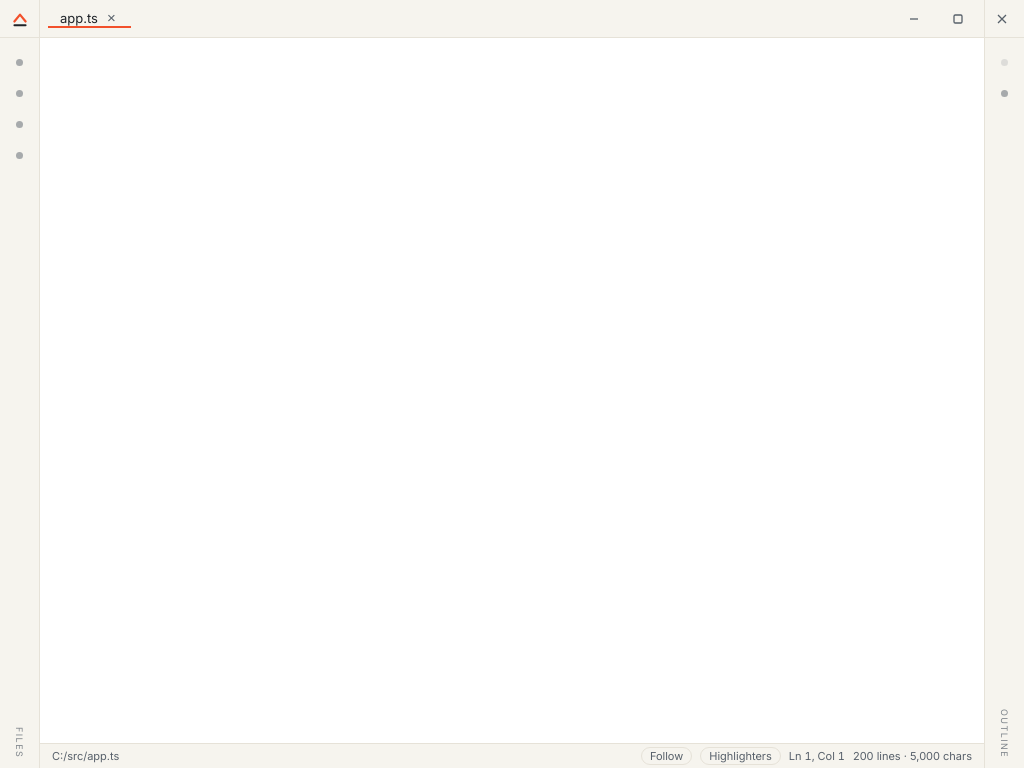
Test: command bar › switches Command mode to Find when the input starts with '/'
The width and height of the screenshot is (1024, 768).
Press p
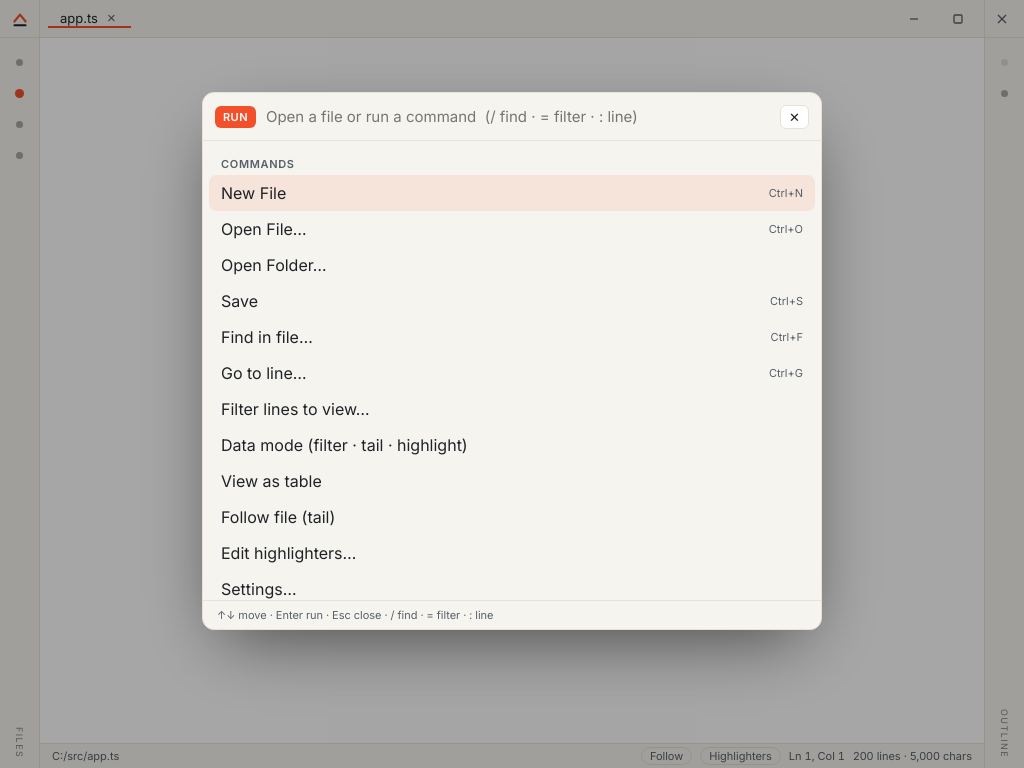
Type "/" into the field with placeholder "Open a file or run a command (/ find · = filter · : line)" at [518, 117], box [264,103,772,130]
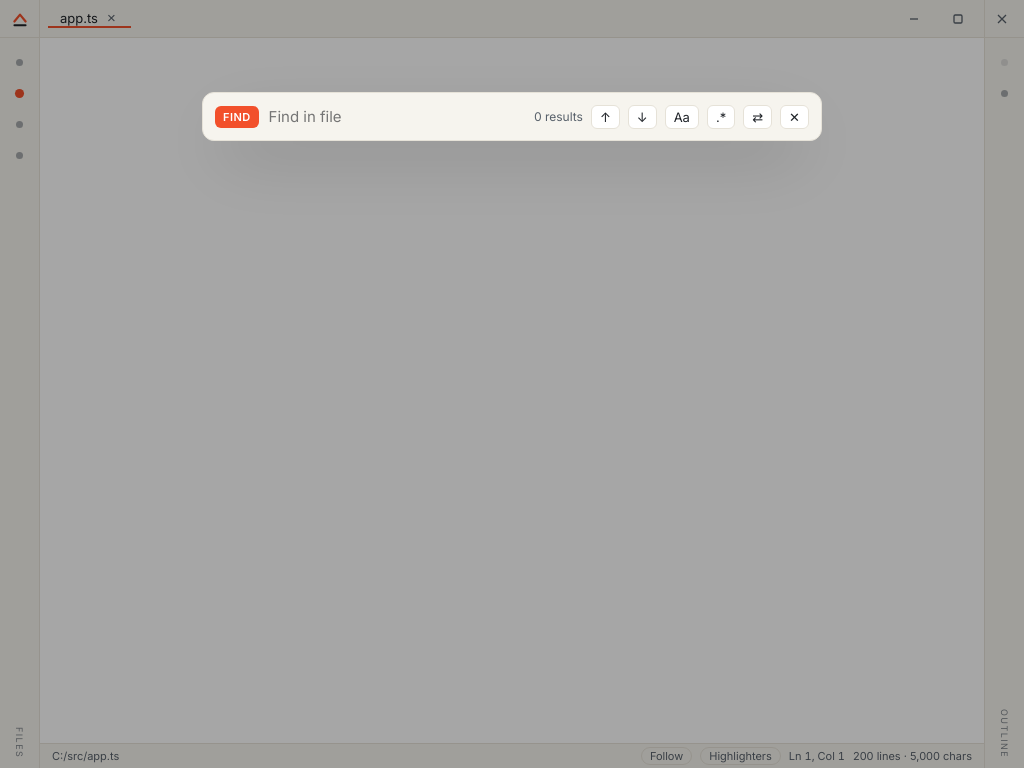
Result: the field with placeholder "Find in file" is shown at [267,103,526,130]
